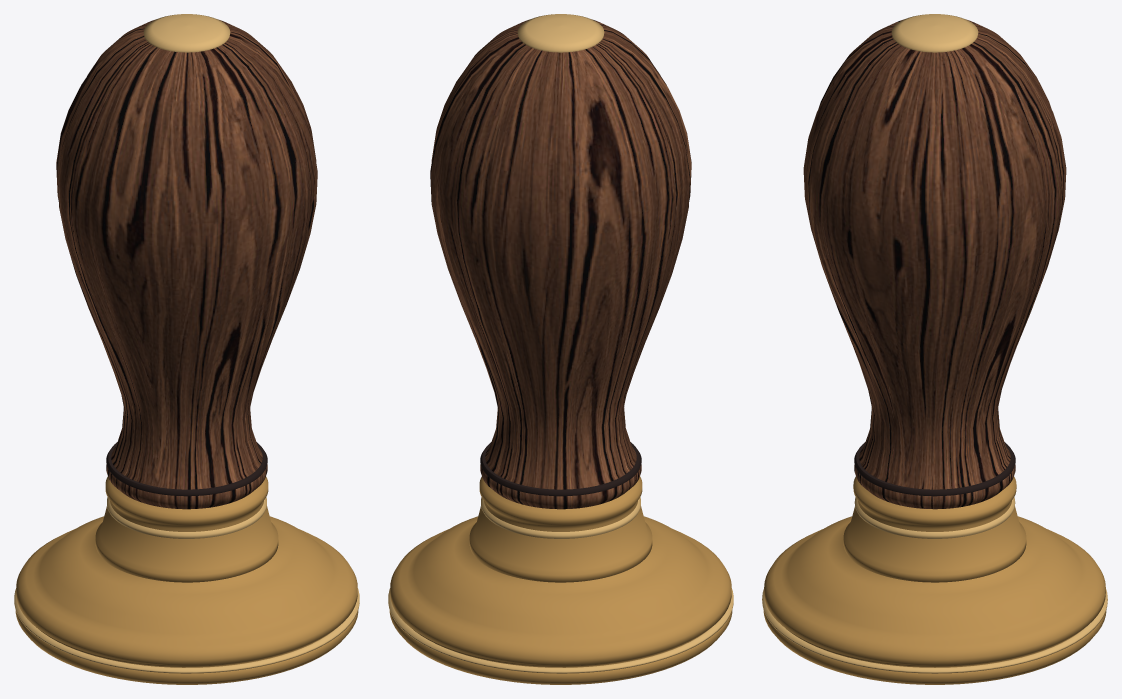
Rendered from cachet.glb.
3 views of the same model, side by side, from view 1: azimuth 30°, elevation 25°; view 2: azimuth 150°, elevation 25°; view 3: azimuth 270°, elevation 25° (orthographic).
Parts seen in each view (by area): view 1: Noyer tourné, Matrice biseautée, Filet de frappe, Filet de bois noir; view 2: Noyer tourné, Matrice biseautée, Filet de frappe, Filet de bois noir; view 3: Noyer tourné, Matrice biseautée, Filet de frappe, Filet de bois noir.
Boxes of the visible parts, x1,y1,x2,y2 form: Noyer tourné: (56, 19, 317, 509); Matrice biseautée: (15, 476, 358, 684); Filet de frappe: (14, 14, 359, 673); Filet de bois noir: (106, 442, 267, 496); Noyer tourné: (430, 19, 691, 509); Matrice biseautée: (389, 476, 732, 684); Filet de frappe: (388, 14, 733, 673); Filet de bois noir: (480, 442, 641, 496); Noyer tourné: (803, 19, 1066, 509); Matrice biseautée: (763, 476, 1106, 684); Filet de frappe: (762, 14, 1107, 673); Filet de bois noir: (854, 442, 1015, 496).
Bounding box in the file's own units: 0.526 × 0.9981 × 0.526.
5 materials, 1 textured.
